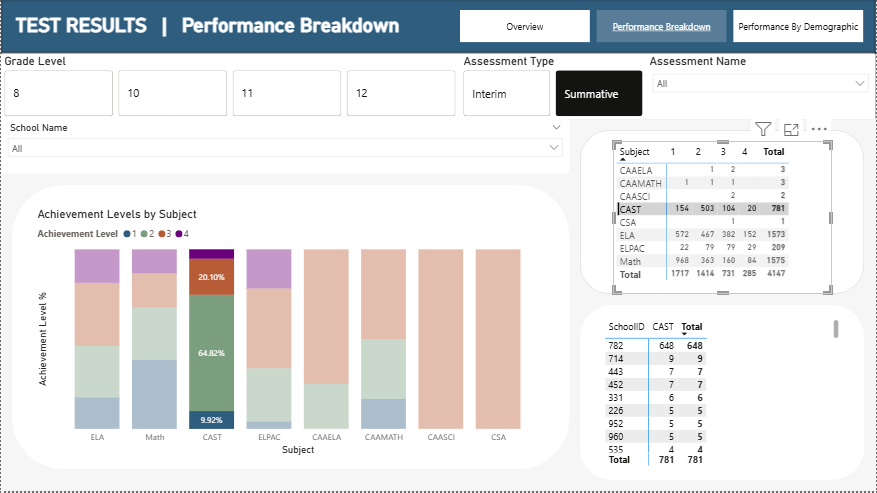

The page's visual inventory and layout, read from the dashboard file:
{"tool":"powerbi","page":{"name":"Performance Breakdown","canvas":[1280,720],"ordinal":1},"visuals":[{"type":"group","id":"g1","title":"Group 1","box":[0,0,1280,176],"z":0},{"type":"shape","box":[0,0,1280,79.4],"z":0,"group":"g1"},{"type":"textbox","box":[16,0,624,80],"z":1000},{"type":"shape","box":[0,78.2,1280,97.8],"z":1000,"group":"g1"},{"type":"advancedSlicerVisual","title":"Grade Level","fields":{"Values":["test_results.GradeLevelWhenAssessed"]},"box":[0,80,672,96],"z":2000},{"type":"advancedSlicerVisual","title":"Assessment Type","fields":{"Values":["test.AssessmentType"]},"box":[672,80,272,96],"z":3000},{"type":"slicer","title":"Assessment Name","fields":{"Values":["test.AssessmentName"]},"box":[944,80,336,96],"z":4000},{"type":"shape","box":[848,192,416,240],"z":5000},{"type":"shape","box":[848,448,416,256],"z":6000},{"type":"shape","box":[16,272,816,416],"z":7000},{"type":"pivotTable","fields":{"Rows":["test.Subject"],"Values":["CountNonNull(test_results.ScaleScoreAchievementLevel)"],"Columns":["test_results.ScaleScoreAchievementLevel"]},"box":[896,208,320,224],"z":8000},{"type":"slicer","fields":{"Values":["school.SchoolName"]},"box":[0,176,832,80],"z":9000},{"type":"pivotTable","fields":{"Rows":["school.SchoolID"],"Columns":["test.Subject"],"Values":["CountNonNull(test_results.ScaleScoreAchievementLevel)"]},"box":[880,464,352,224],"z":10000},{"type":"hundredPercentStackedColumnChart","title":"Achievement Levels by Subject","fields":{"Category":["test.Subject"],"Y":["Sum(test_results.ScaleScoreAchievementLevel)"],"Series":["test_results.ScaleScoreAchievementLevel"]},"box":[48,304,752,368],"z":11000},{"type":"pageNavigator","box":[672,16,592,48],"z":11001}]}

Visuals, with their boxes in screenshot pixels (x1, y1, x2, y2), scaled from the page's 1280x720 canvas onto the 877x493 screenshot:
"Group 1" group: (x1=0, y1=0, x2=876, y2=121)
shape: (x1=0, y1=0, x2=876, y2=54)
textbox: (x1=11, y1=0, x2=438, y2=55)
shape: (x1=0, y1=54, x2=876, y2=121)
"Grade Level" advancedSlicerVisual: (x1=0, y1=55, x2=460, y2=121)
"Assessment Type" advancedSlicerVisual: (x1=460, y1=55, x2=647, y2=121)
"Assessment Name" slicer: (x1=647, y1=55, x2=876, y2=121)
shape: (x1=581, y1=131, x2=866, y2=296)
shape: (x1=581, y1=307, x2=866, y2=482)
shape: (x1=11, y1=186, x2=570, y2=471)
pivotTable - test.Subject x CountNonNull(test_results.ScaleScoreAchievementLevel): (x1=614, y1=142, x2=833, y2=296)
slicer - school.SchoolName: (x1=0, y1=121, x2=570, y2=175)
pivotTable - school.SchoolID x test.Subject: (x1=603, y1=318, x2=844, y2=471)
"Achievement Levels by Subject" hundredPercentStackedColumnChart: (x1=33, y1=208, x2=548, y2=460)
pageNavigator: (x1=460, y1=11, x2=866, y2=44)
